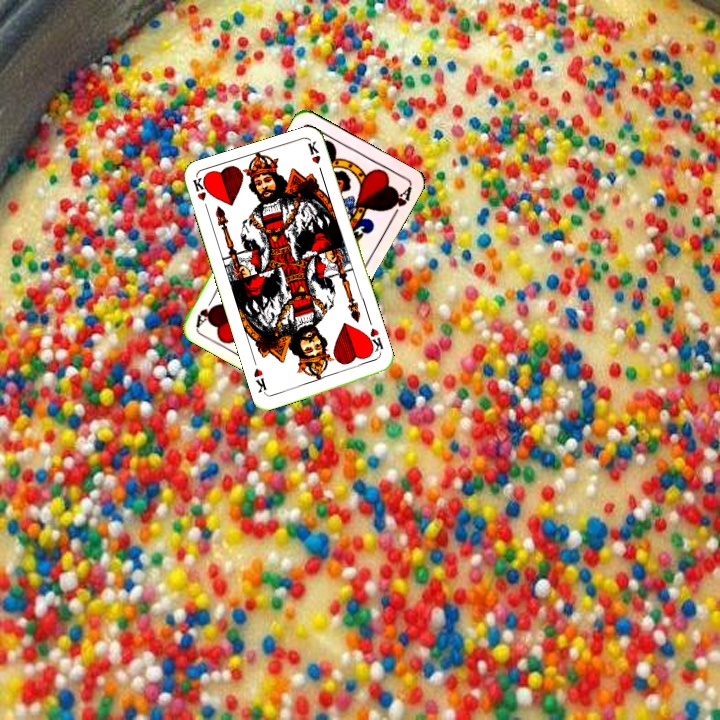HK: (189, 174, 212, 215), (362, 324, 386, 359)
